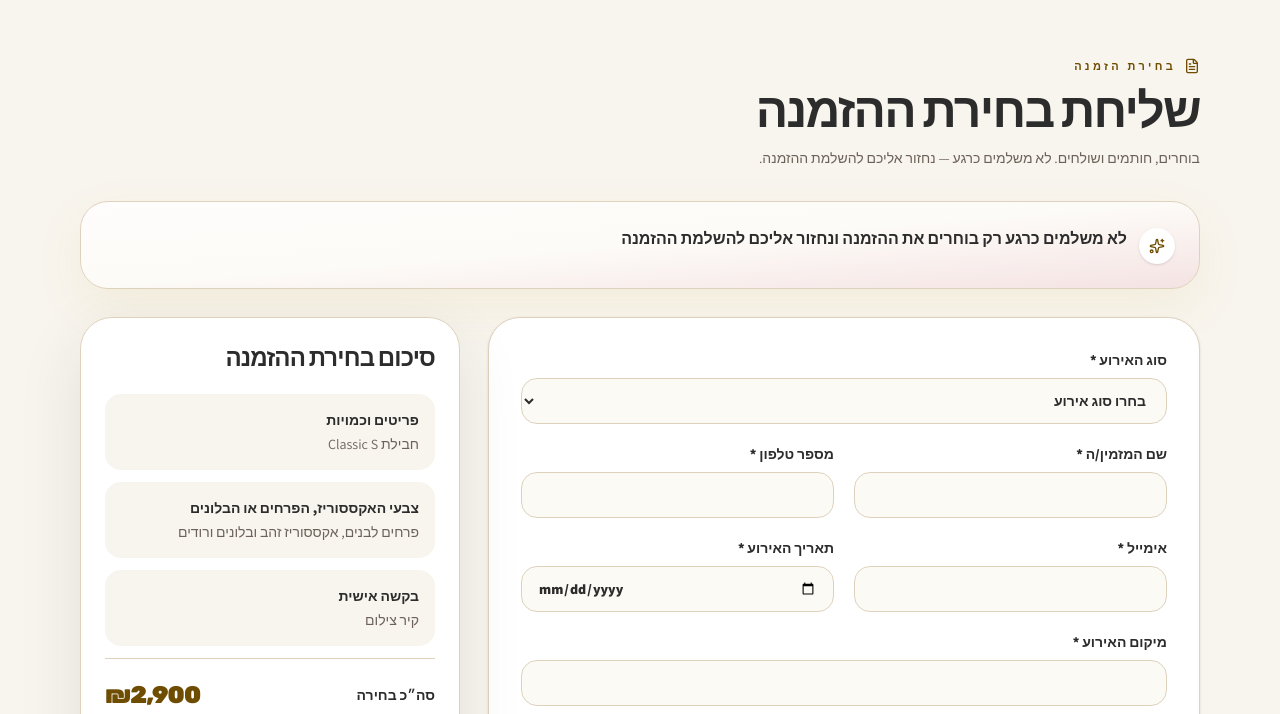
CheckoutPage › requires the primary signature after all contact fields are complete
Select "חינה" in the dropdown labelled "סוג האירוע *" at (844, 401), box [521,378,1167,424]
Type "ישראל ישראלי" into the field labelled "שם המזמין/ה *".
click(1010, 495); type("ישראל ישראלי")  # box [854,472,1167,518]
Type "0501234567" into the field labelled "מספר טלפון *".
click(678, 495); type("0501234567")  # box [521,472,834,518]
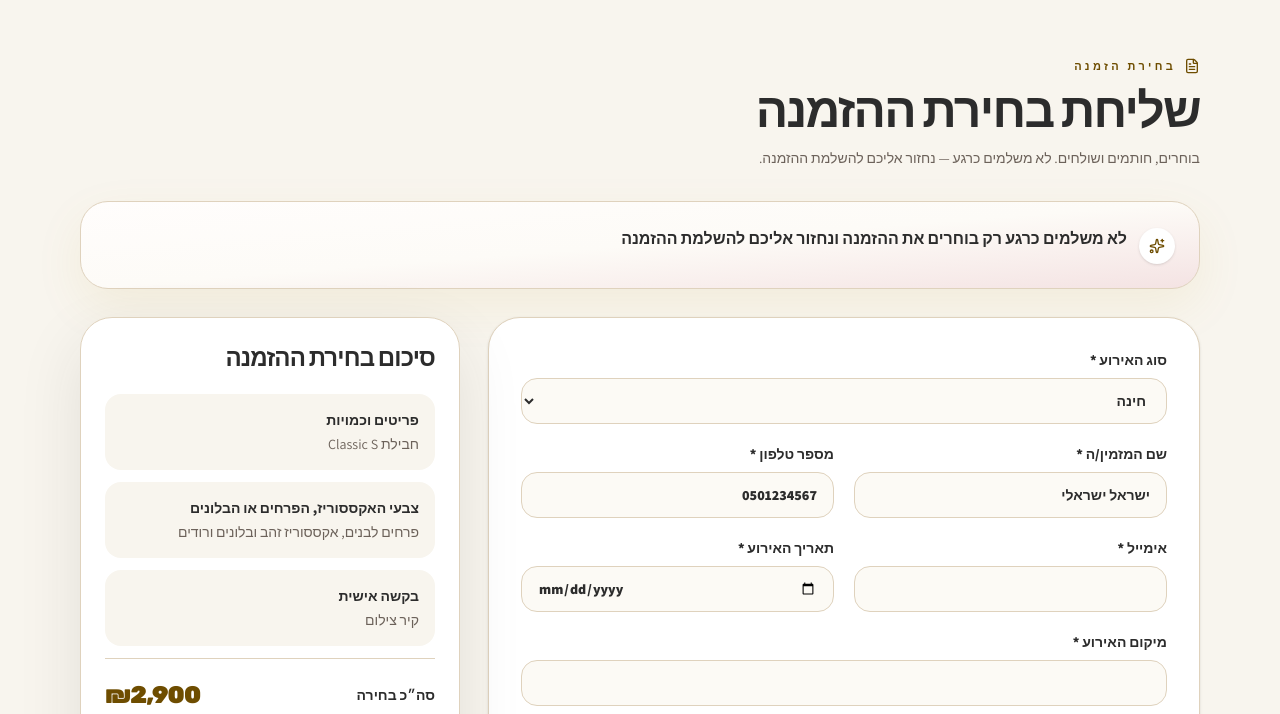
Type "israel@example.com" into the field labelled "אימייל *".
click(1010, 589); type("israel@example.com")  # box [854,566,1167,612]
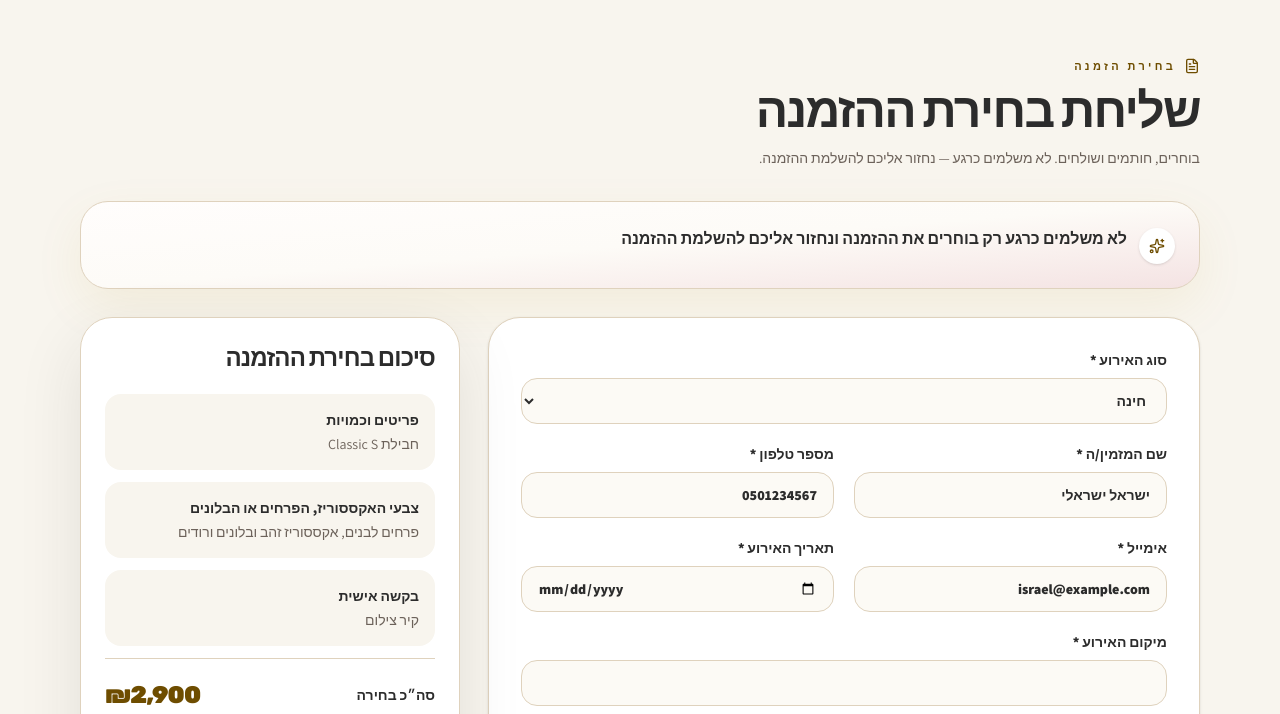
Type "2026-10-10" into the date field labelled "תאריך האירוע *".
click(678, 589); type("2026-10-10")  # box [521,566,834,612]
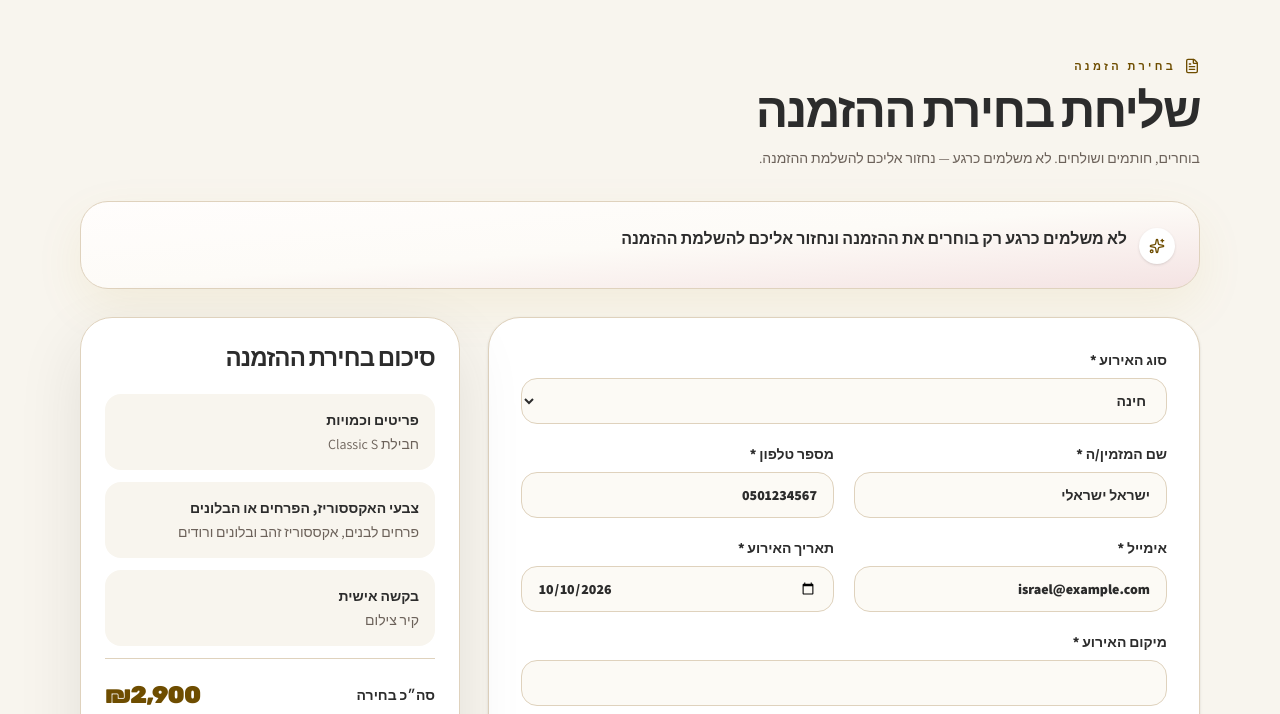
Type "אולם לדוגמה" into the field labelled "מיקום האירוע *".
click(844, 683); type("אולם לדוגמה")  # box [521,660,1167,706]
(page scrolled)
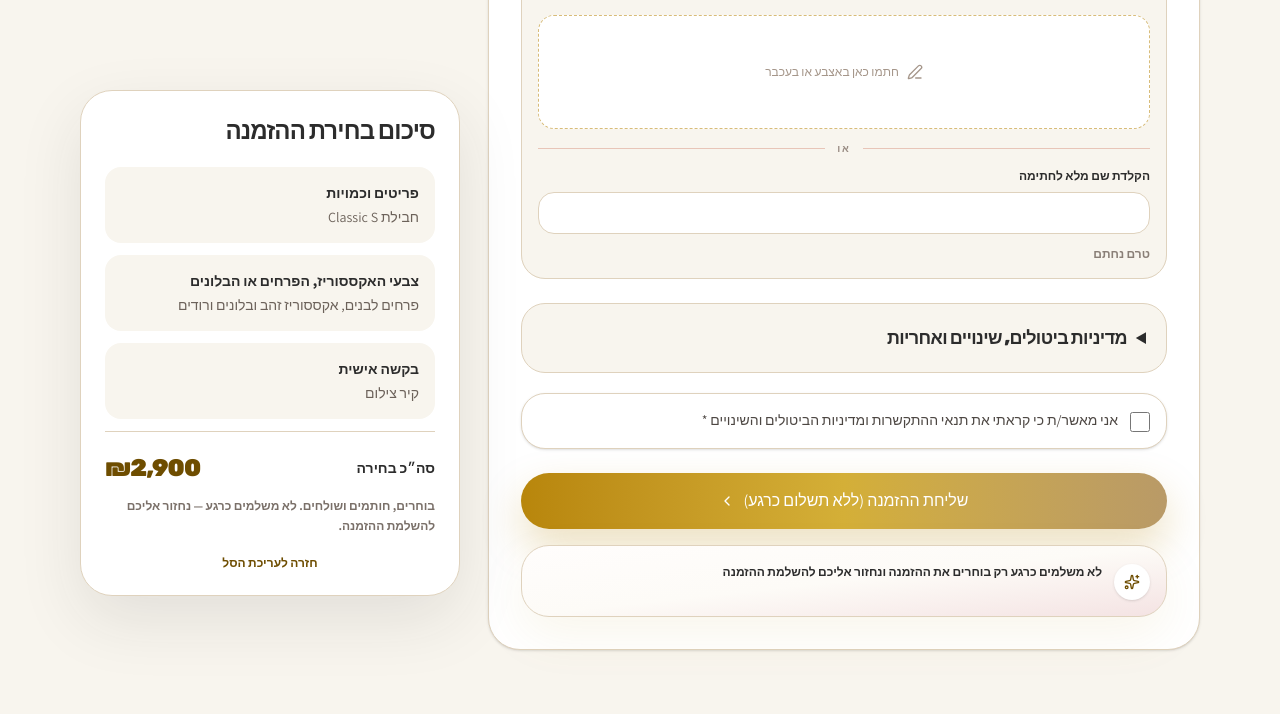
Click the checkbox labelled "אני מאשר/ת".
click(1140, 422)  # box [1130,412,1150,432]
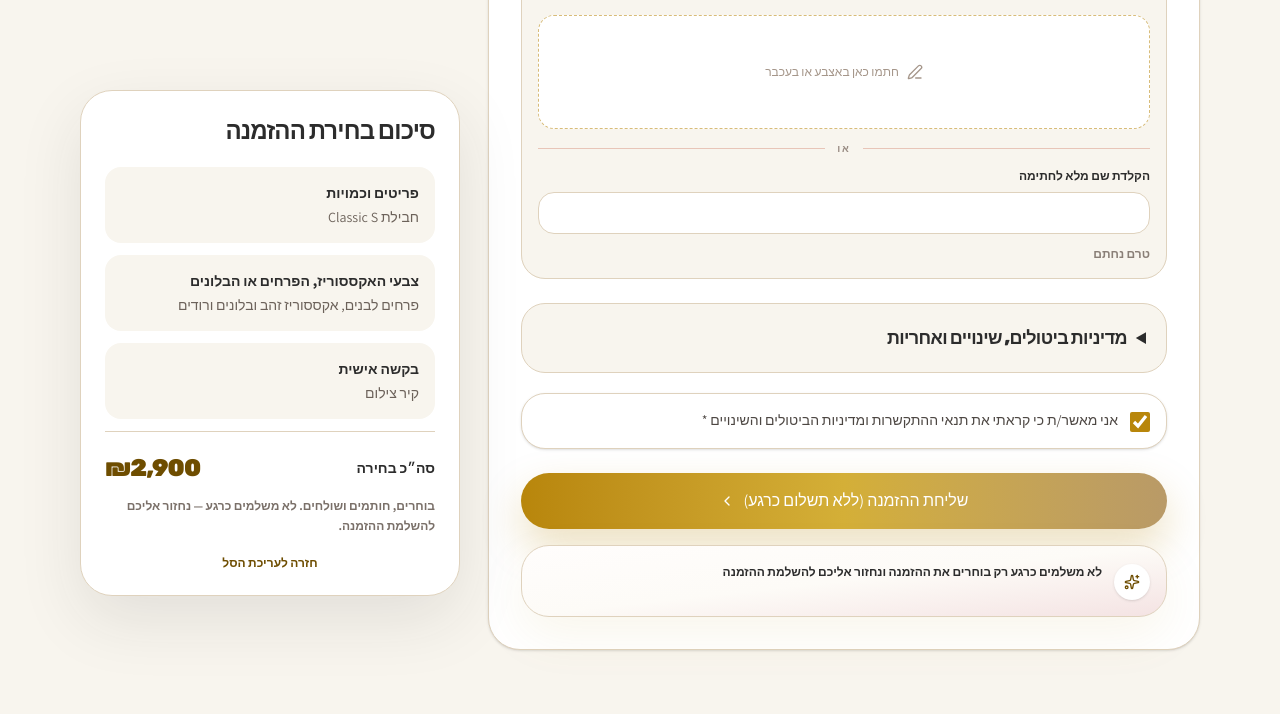
Click the button "שליחת ההזמנה (ללא תשלום כרגע)".
click(844, 501)  # box [521,473,1167,529]
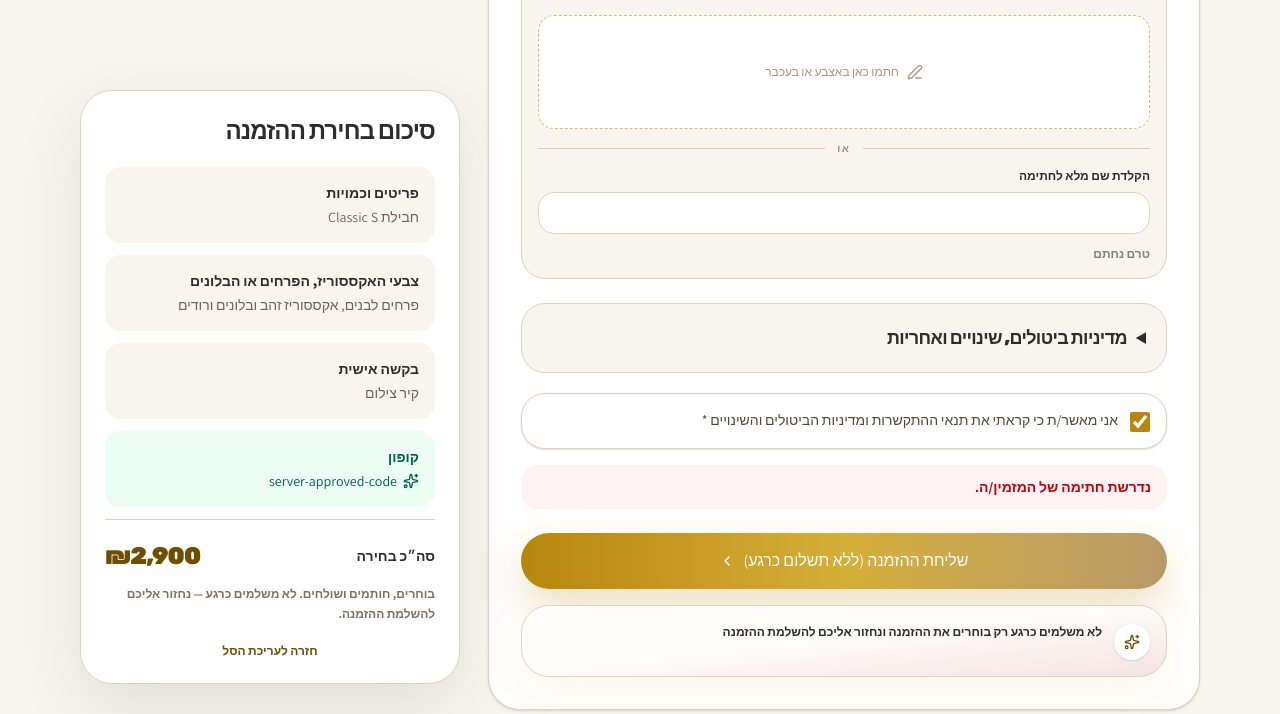
Result: the message shows "נדרשת חתימה" at [975,478,1151,496]
